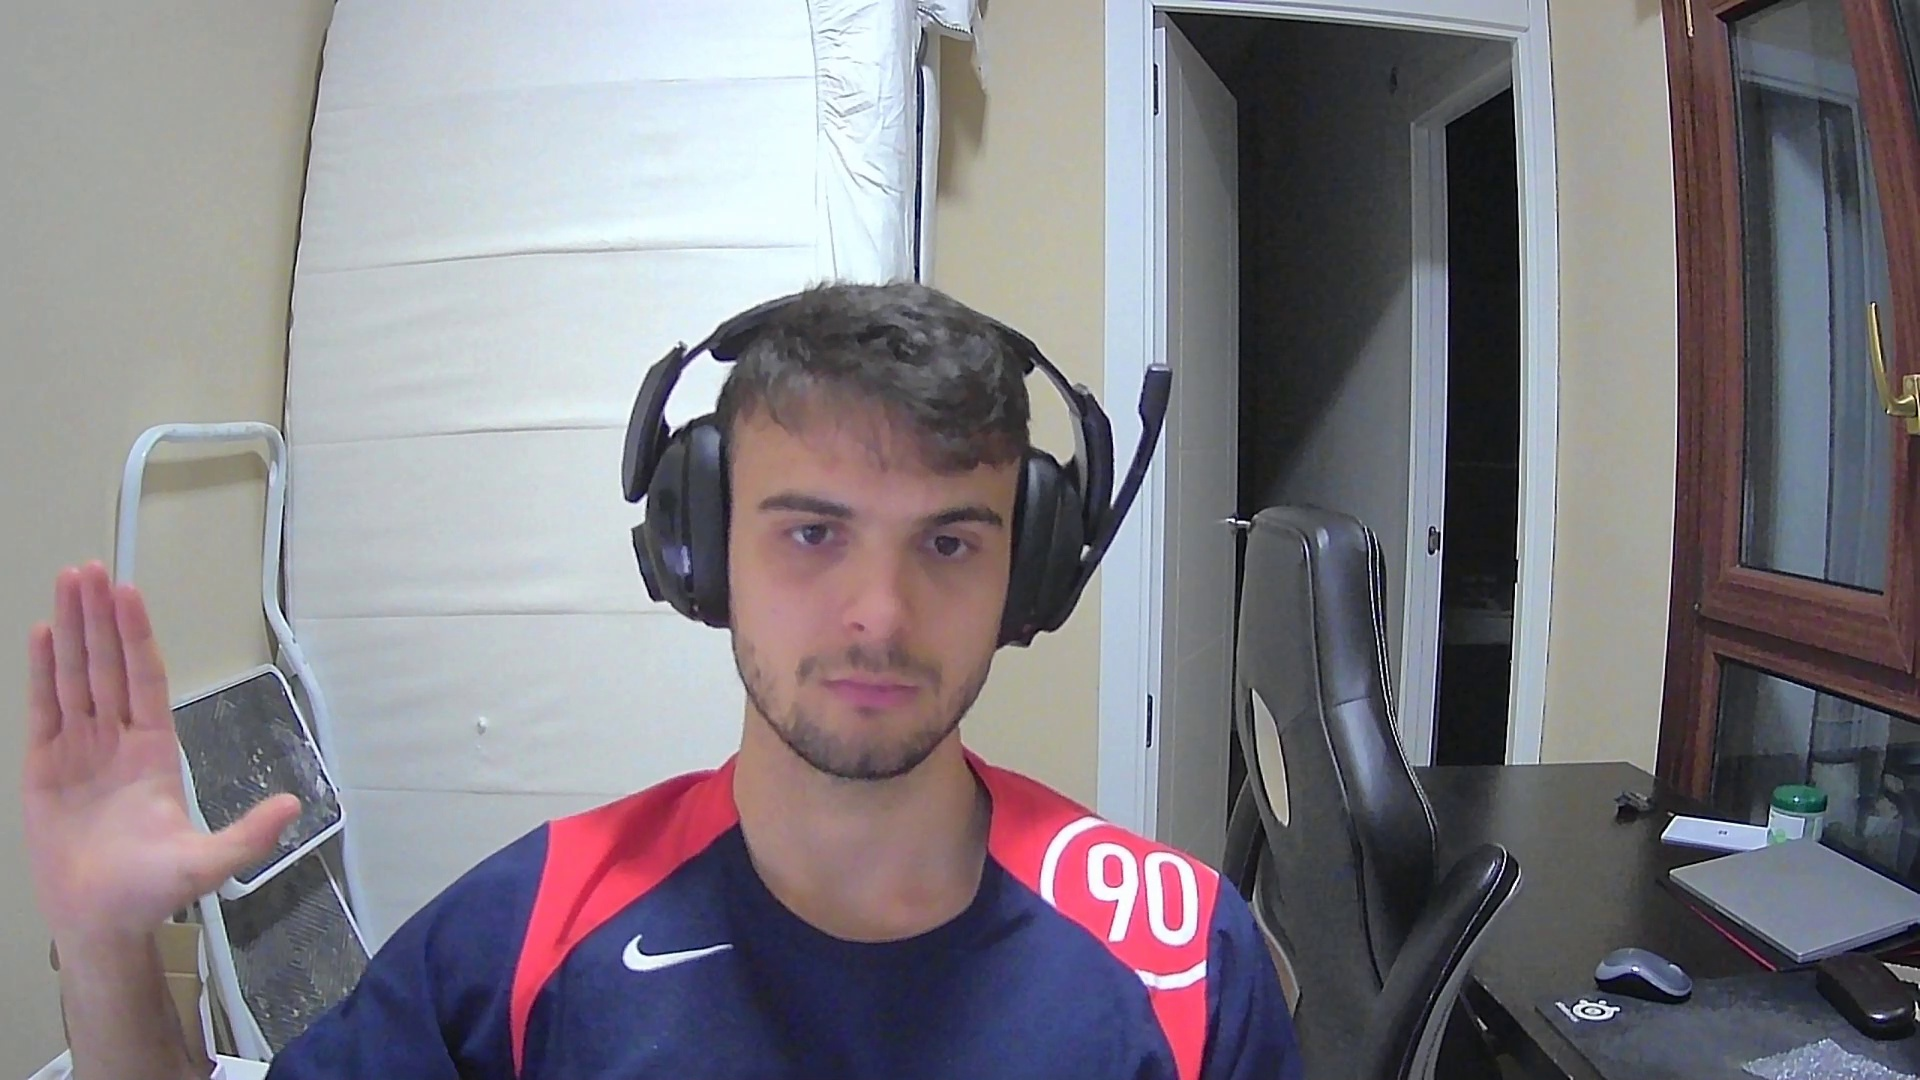Palm: (15, 556, 306, 948)
